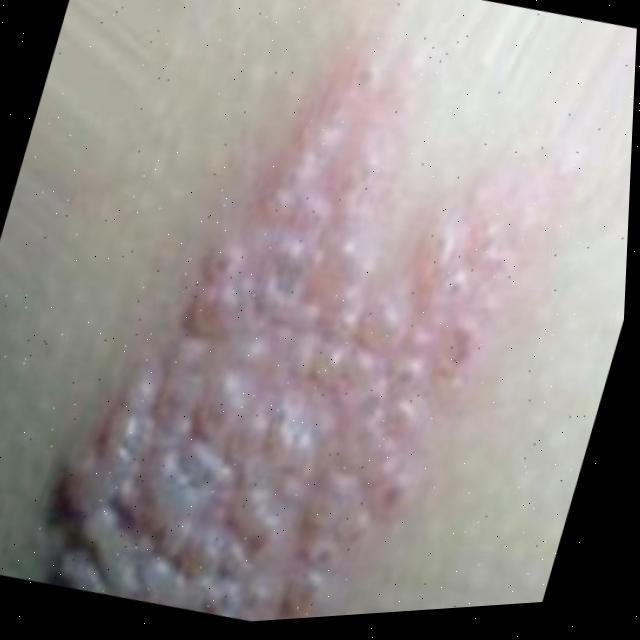Shingles: (27, 16, 559, 636)
